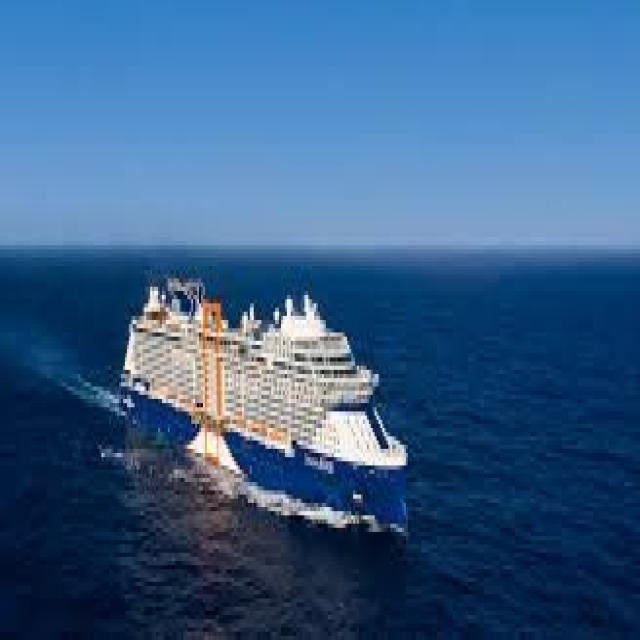passenger ship: (115, 260, 408, 542)
